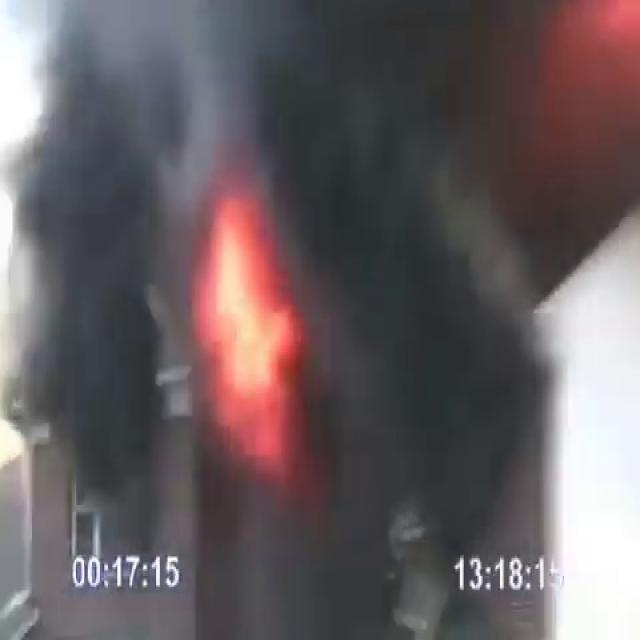Fire: (192, 172, 302, 460)
Smoke: (0, 0, 632, 503)
